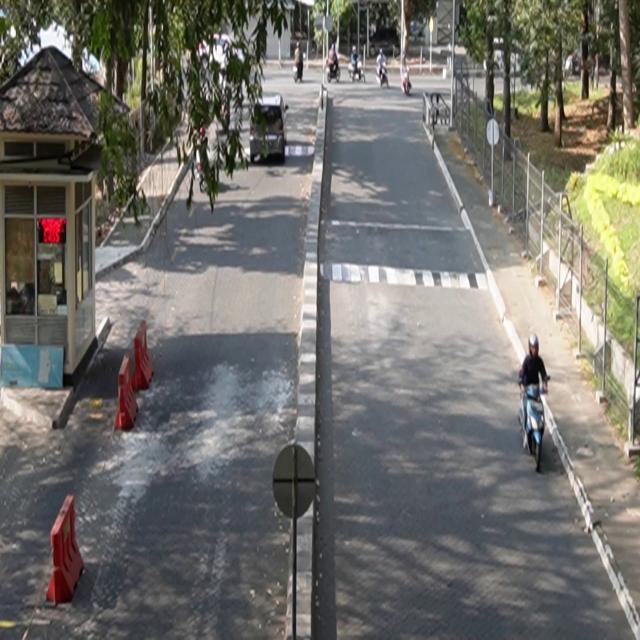car: (250, 94, 290, 165)
